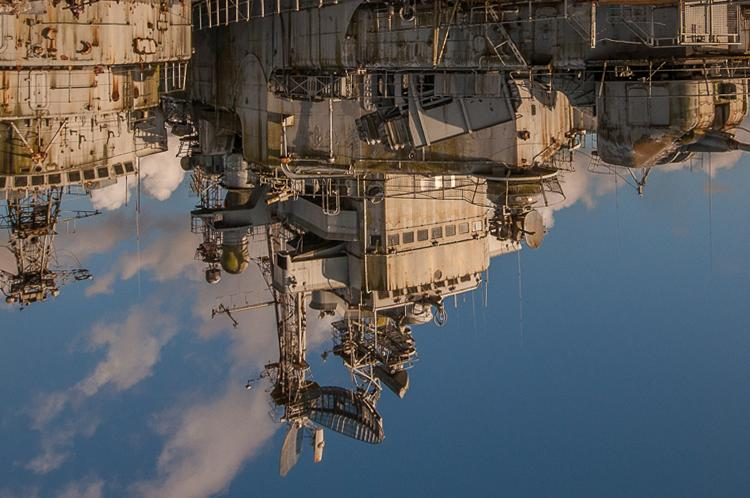rust: (13, 6, 120, 76), (153, 2, 213, 108), (322, 132, 476, 169), (5, 119, 66, 191), (535, 93, 592, 163), (363, 15, 435, 63), (220, 39, 250, 117), (626, 130, 689, 167), (694, 87, 748, 130), (259, 108, 296, 167), (222, 245, 257, 274), (531, 219, 553, 250)
